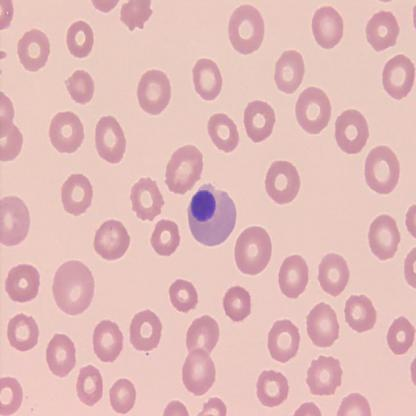NRC: (184, 182, 237, 248)
